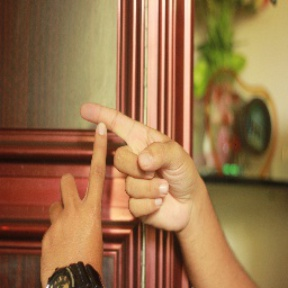T: (39, 89, 167, 249)
